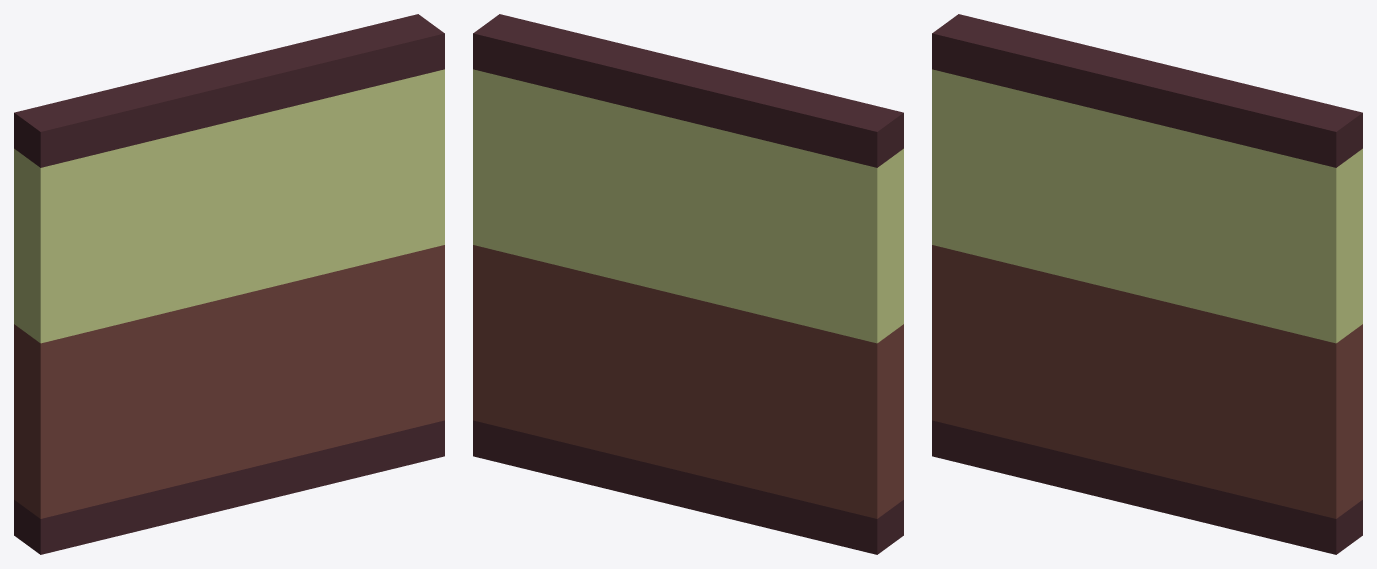
File: Wall_office.fbx
3 views of the same model, side by side, from view 1: azimuth 30°, elevation 25°; view 2: azimuth 150°, elevation 25°; view 3: azimuth 330°, elevation 25° (orthographic).
Parts seen in each view (by area): view 1: Wall_office; view 2: Wall_office; view 3: Wall_office.
Boxes of the visible parts, x1,y1,x2,y2 form: Wall_office: [14, 14, 444, 554]; Wall_office: [473, 14, 903, 554]; Wall_office: [932, 14, 1362, 554].
Bounding box in the file's own units: 200 × 200 × 22.72.
